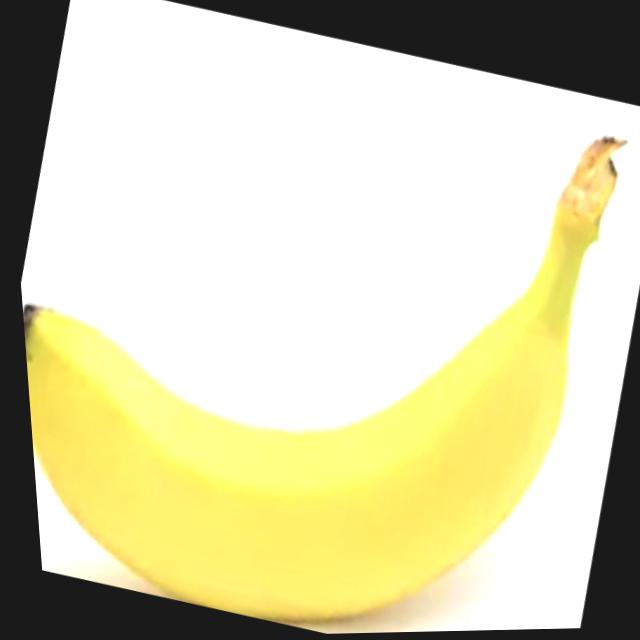Banana: (1, 2, 640, 640)
